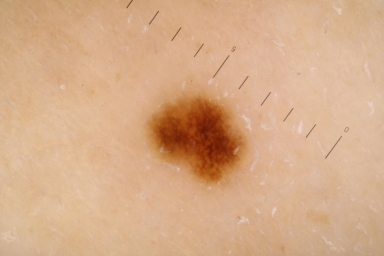melanoma: (151, 99, 242, 183)
